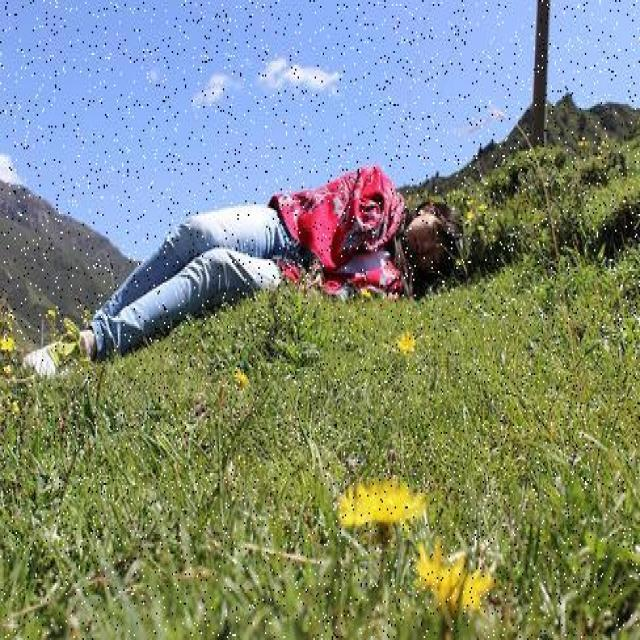fall: (80, 165, 464, 352)
